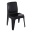chair: (4, 1, 28, 32)
